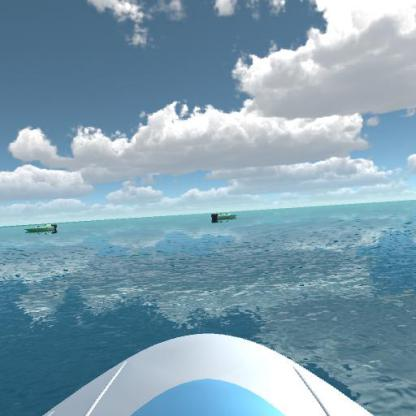usv0: (23, 218, 61, 237), (211, 206, 241, 223)
